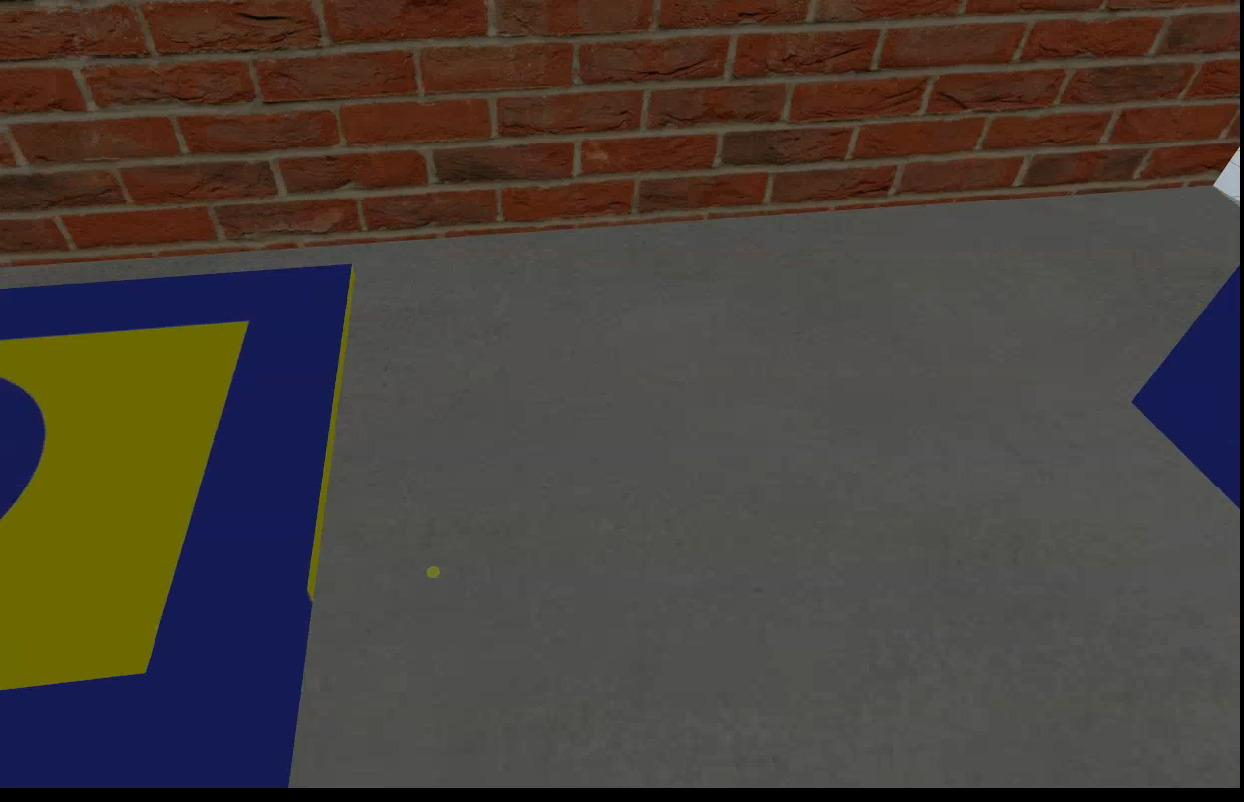large_base: (1, 260, 363, 785)
